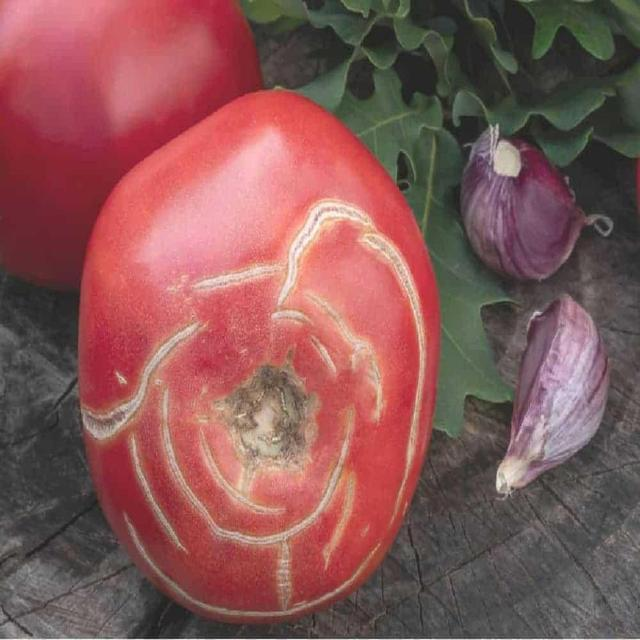Cracking Fruit: (95, 44, 230, 306)
